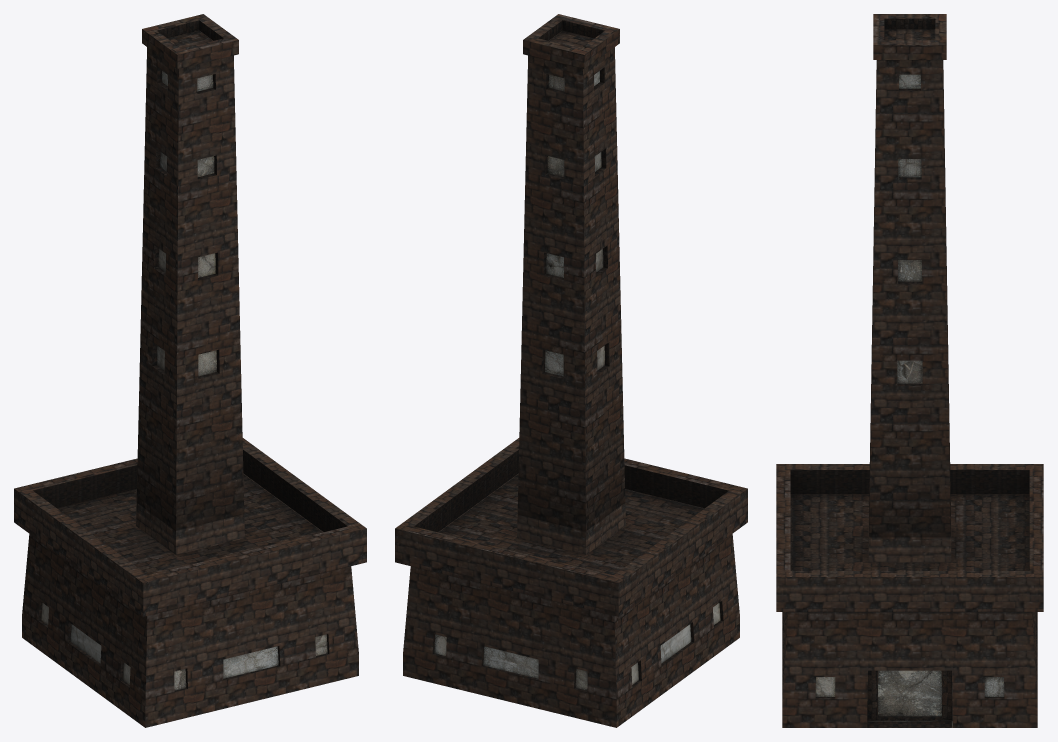
3 renders of one model, left to right at view 1: azimuth 30°, elevation 25°; view 2: azimuth 150°, elevation 25°; view 3: azimuth 270°, elevation 25°, orthographic. The views are drawn at different scales.
Visible parts, largest first — view 1: Cube; view 2: Cube; view 3: Cube.
Part boxes in pixels (box(x1,y1,x2,y2)): Cube: box(14, 14, 366, 727); Cube: box(395, 14, 747, 727); Cube: box(776, 14, 1043, 727).
Size of the model in its own units: 648 by 1723 by 648.
1 material, 1 textured.
